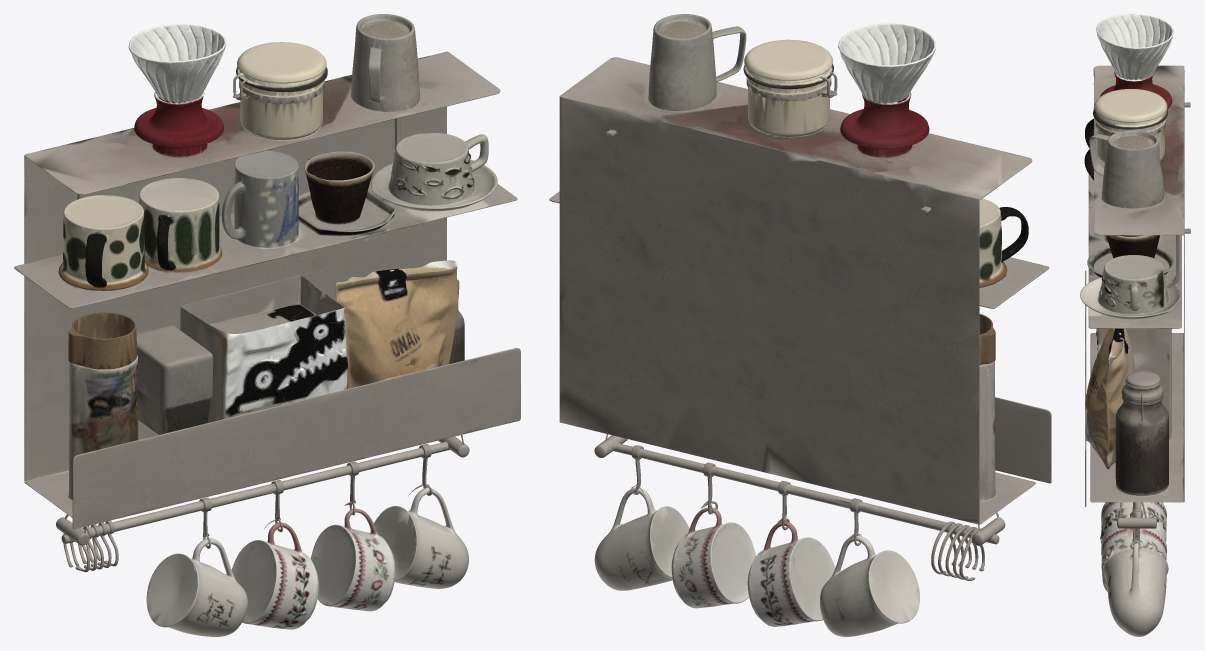
The model's file is shelf.optimized.glb.
3 views of the same model, side by side, from view 1: azimuth 30°, elevation 25°; view 2: azimuth 150°, elevation 25°; view 3: azimuth 270°, elevation 25° (orthographic). The views are drawn at different scales.
Bounding box in the file's own units: 1.46 × 1.9 × 0.3814.
Materials: 1 (1 with a texture image).
